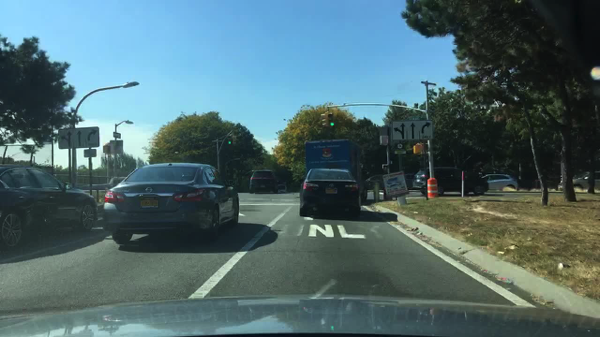car: (102, 163, 239, 244), (0, 166, 99, 254), (299, 168, 360, 220), (411, 166, 487, 196), (557, 169, 599, 192), (249, 169, 277, 195), (480, 173, 519, 191), (365, 175, 384, 190), (403, 173, 417, 191), (106, 176, 126, 188), (277, 184, 288, 194)
traffic light: (327, 112, 335, 129), (319, 112, 327, 128), (103, 144, 113, 156), (413, 144, 422, 154), (232, 134, 238, 147), (226, 134, 232, 145)
traffic sign: (57, 127, 99, 150), (390, 121, 432, 141), (110, 141, 124, 154), (83, 149, 97, 158), (112, 132, 121, 140), (409, 116, 425, 120)
truck: (302, 140, 368, 203)
